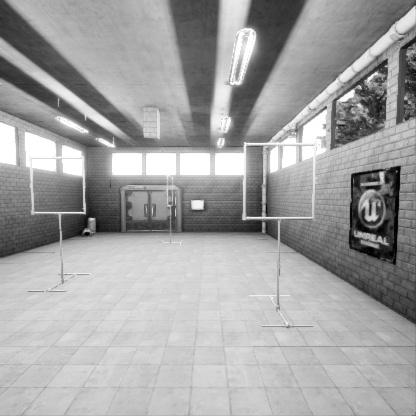gate: (246, 199, 324, 276), (36, 204, 93, 260), (167, 210, 172, 242)
